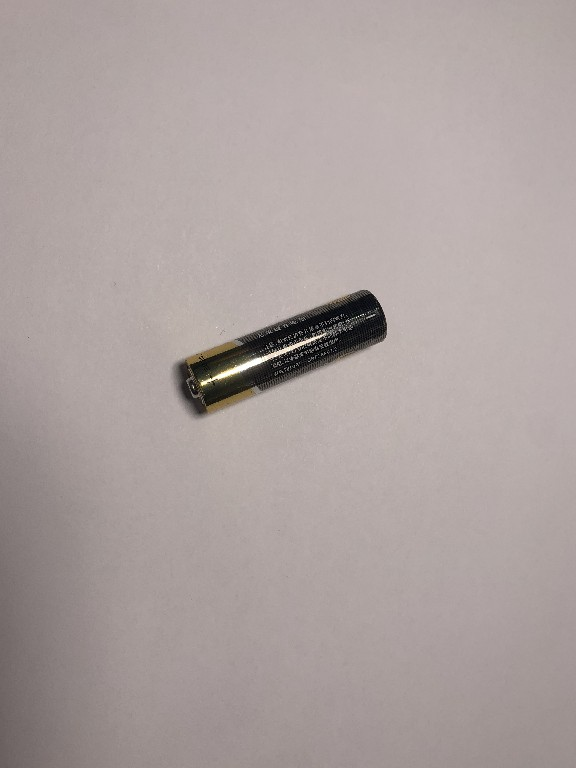charge: (180, 287, 389, 416)
